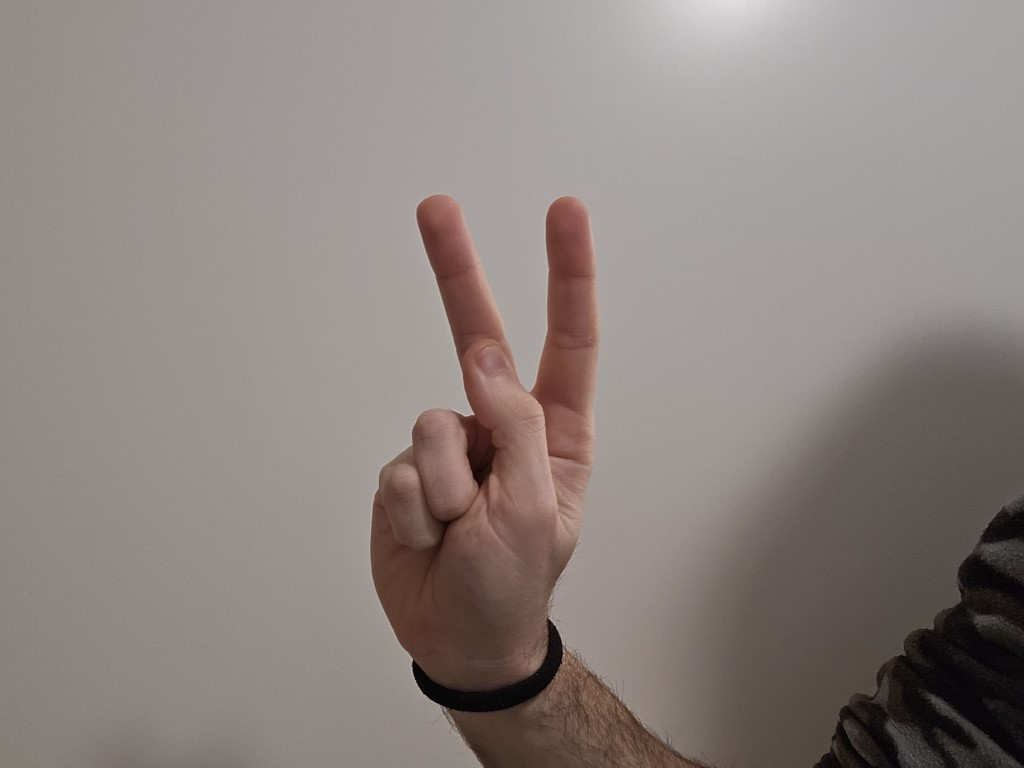k: (316, 171, 618, 643)
